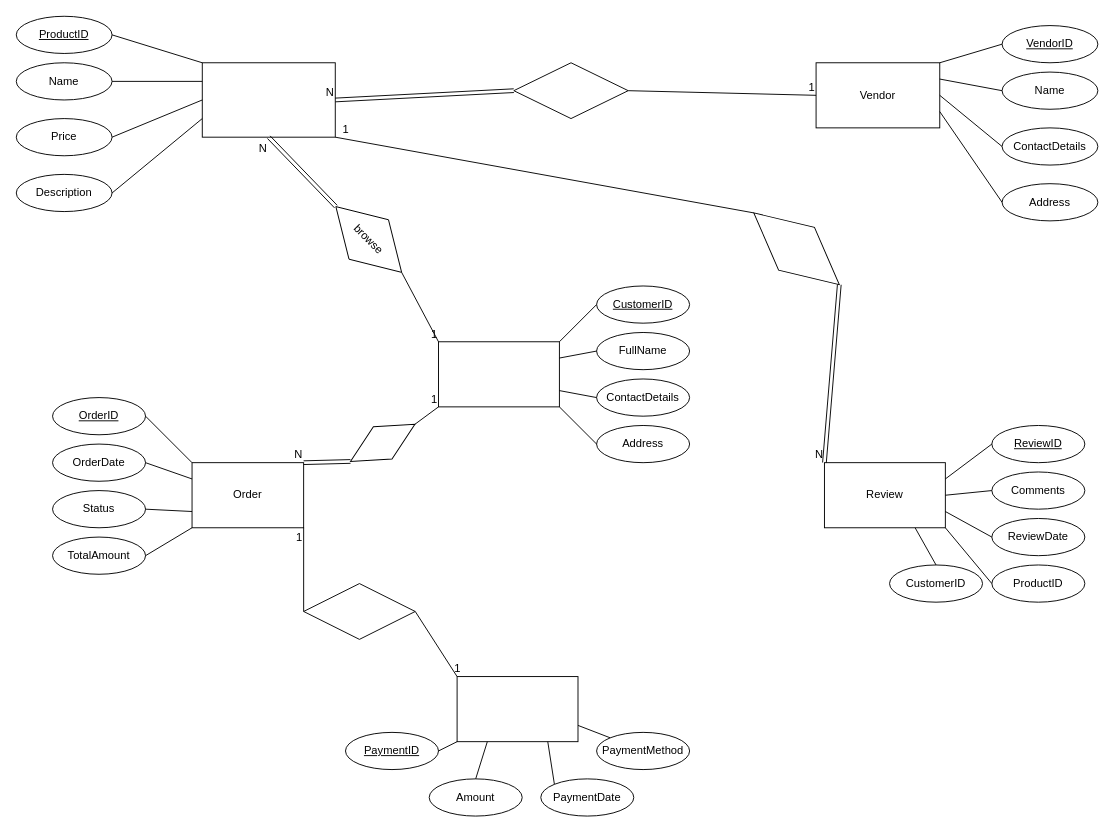
This 1114x832 diagram has some shape labels left out. The shapes that lost their labels are listed below. From the top down, each one's box as (x1, y1, x2, y2) in pixels, then its label:
(201, 62, 335, 137): Product
(513, 62, 628, 119): list
(735, 190, 857, 306): have
(438, 341, 559, 407): Customer
(340, 407, 424, 478): place
(303, 583, 415, 639): associated
(456, 676, 578, 742): Payment
